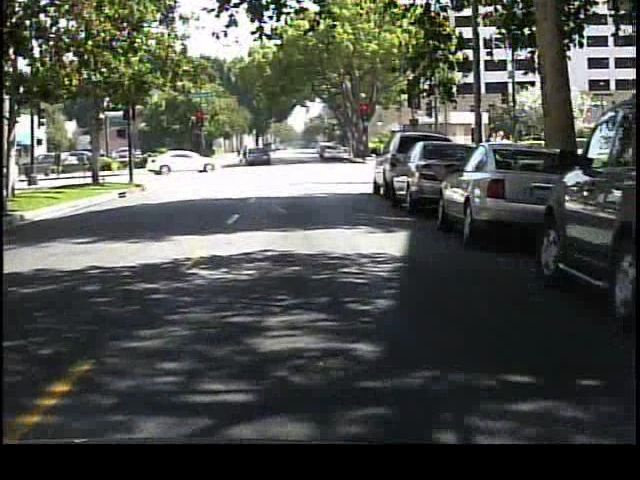person: (236, 143, 250, 169)
